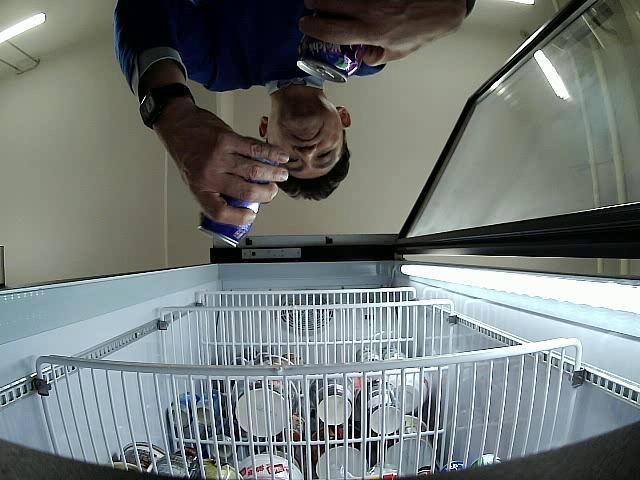14_welchsGrape: (198, 137, 272, 248), (295, 36, 362, 82)
